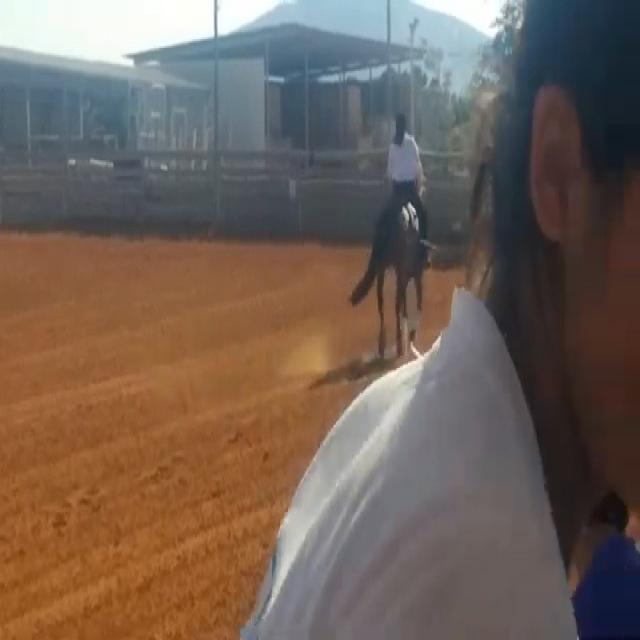horse: (358, 170, 434, 354)
